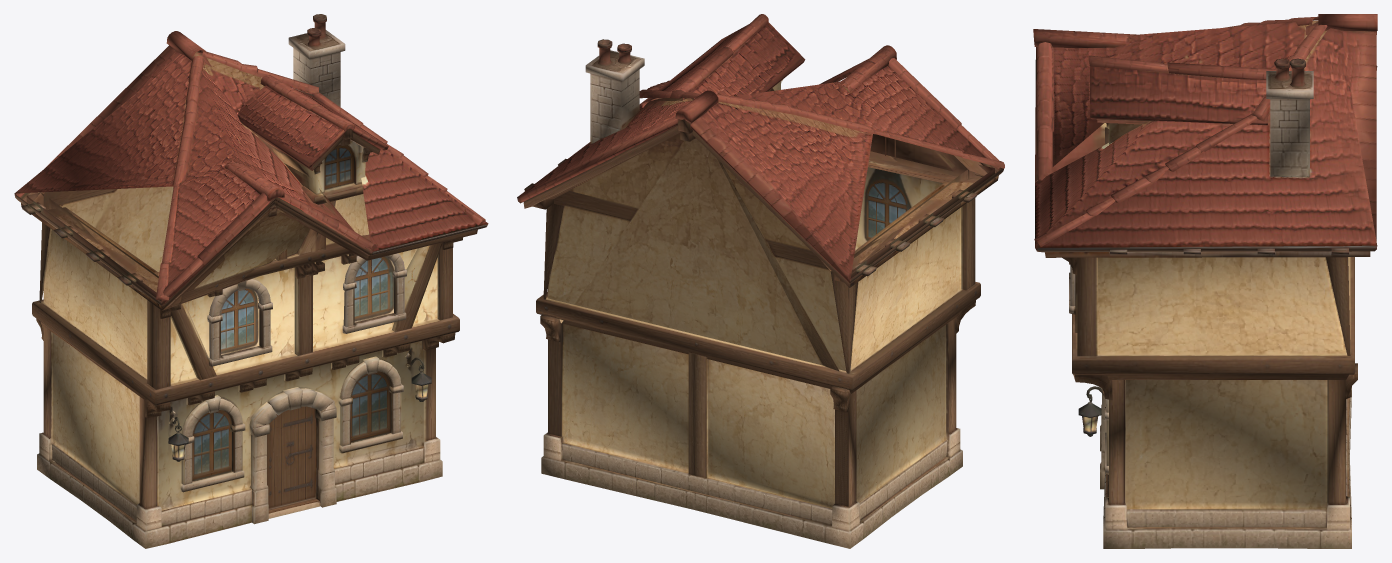
The model's file is Furn_Town2_House_A.fbx.
3 renders of one model, left to right at view 1: azimuth 30°, elevation 25°; view 2: azimuth 150°, elevation 25°; view 3: azimuth 270°, elevation 25°, orthographic. The views are drawn at different scales.
Parts seen in each view (by area): view 1: Furn_Town2_House_A; view 2: Furn_Town2_House_A; view 3: Furn_Town2_House_A.
Part boxes in pixels (x1=…): Furn_Town2_House_A: x1=14, y1=14, x2=488, y2=548; Furn_Town2_House_A: x1=517, y1=14, x2=1004, y2=548; Furn_Town2_House_A: x1=1033, y1=14, x2=1377, y2=548.
Bounding box in the file's own units: 7.68 × 9 × 6.03.
1 material, 1 textured.
